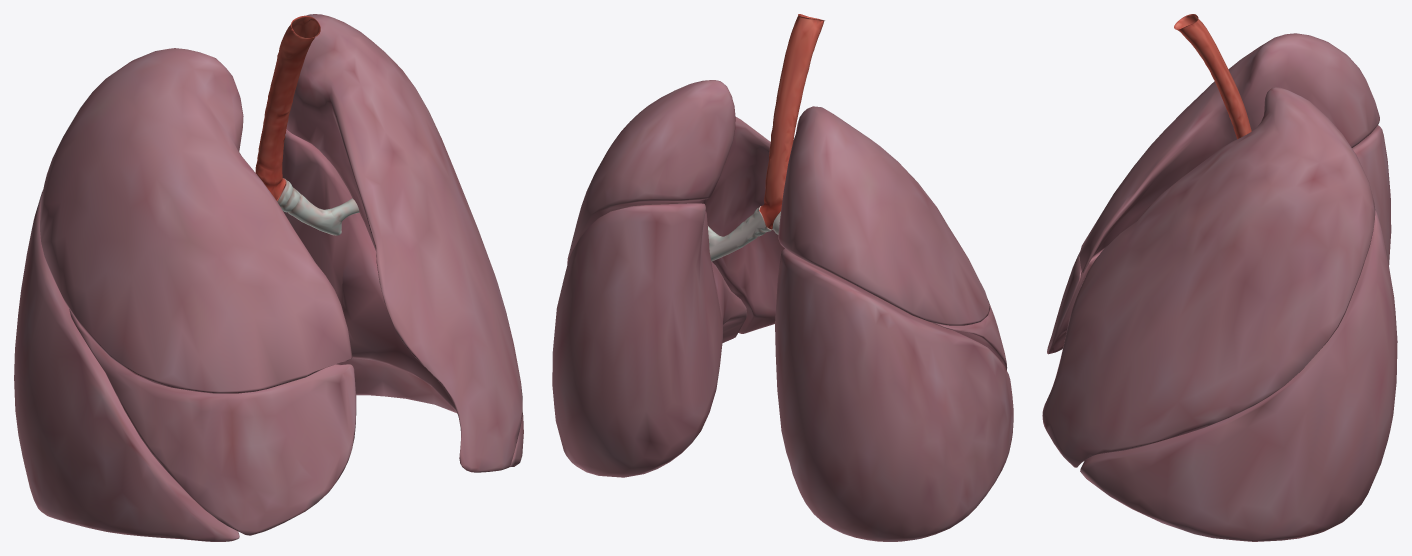
File: lung_cancer.glb
3 views of the same model, side by side, from view 1: azimuth 30°, elevation 25°; view 2: azimuth 150°, elevation 25°; view 3: azimuth 270°, elevation 25° (orthographic). The views are drawn at different scales.
Visible parts, largest first — view 1: Superior Lobe of Right Lung [S01807], Superior Lobe of Left Lung [S01805], Inferior Lobe of Right Lung [S01808], Middle Lobe of Right Lung [S01806], Inferior Lobe of Left Lung [S01804], Mucosa of Trachea [S01822], Left Main Bronchus [S01788]; view 2: Inferior Lobe of Right Lung [S01808], Inferior Lobe of Left Lung [S01804], Superior Lobe of Right Lung [S01807], Superior Lobe of Left Lung [S01805], Mucosa of Trachea [S01822], Left Main Bronchus [S01788], Middle Lobe of Right Lung [S01806]; view 3: Superior Lobe of Left Lung [S01805], Inferior Lobe of Left Lung [S01804], Superior Lobe of Right Lung [S01807], Mucosa of Trachea [S01822], Inferior Lobe of Right Lung [S01808], Middle Lobe of Right Lung [S01806].
Boxes of the visible parts, <box> form: Superior Lobe of Right Lung [S01807]: <box>40,48,352,393</box>; Superior Lobe of Left Lung [S01805]: <box>286,14,522,472</box>; Inferior Lobe of Right Lung [S01808]: <box>14,190,239,541</box>; Middle Lobe of Right Lung [S01806]: <box>69,309,356,535</box>; Inferior Lobe of Left Lung [S01804]: <box>282,129,523,467</box>; Mucosa of Trachea [S01822]: <box>255,15,320,200</box>; Left Main Bronchus [S01788]: <box>277,178,341,235</box>; Inferior Lobe of Right Lung [S01808]: <box>775,249,1013,541</box>; Inferior Lobe of Left Lung [S01804]: <box>552,203,747,477</box>; Superior Lobe of Right Lung [S01807]: <box>778,106,990,325</box>; Superior Lobe of Left Lung [S01805]: <box>567,80,784,333</box>; Mucosa of Trachea [S01822]: <box>759,14,824,229</box>; Left Main Bronchus [S01788]: <box>709,206,772,261</box>; Middle Lobe of Right Lung [S01806]: <box>933,304,1007,370</box>; Superior Lobe of Left Lung [S01805]: <box>1042,87,1375,467</box>; Inferior Lobe of Left Lung [S01804]: <box>1080,210,1397,541</box>; Superior Lobe of Right Lung [S01807]: <box>1078,33,1379,273</box>; Mucosa of Trachea [S01822]: <box>1174,14,1251,139</box>; Inferior Lobe of Right Lung [S01808]: <box>1352,125,1391,264</box>; Middle Lobe of Right Lung [S01806]: <box>1047,248,1104,354</box>.
Size of the model in its own units: 9.35 by 9.81 by 7.28.
